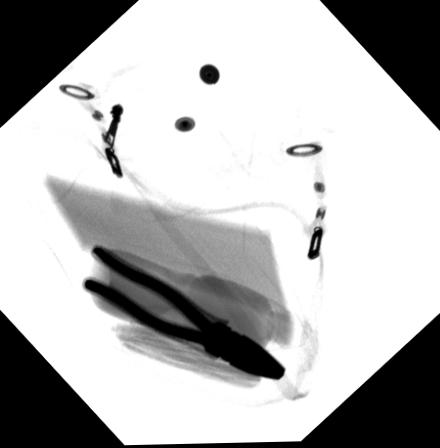Pliers: (80, 244, 288, 380)
